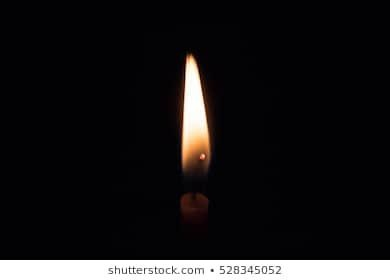fire: (179, 47, 211, 171)
